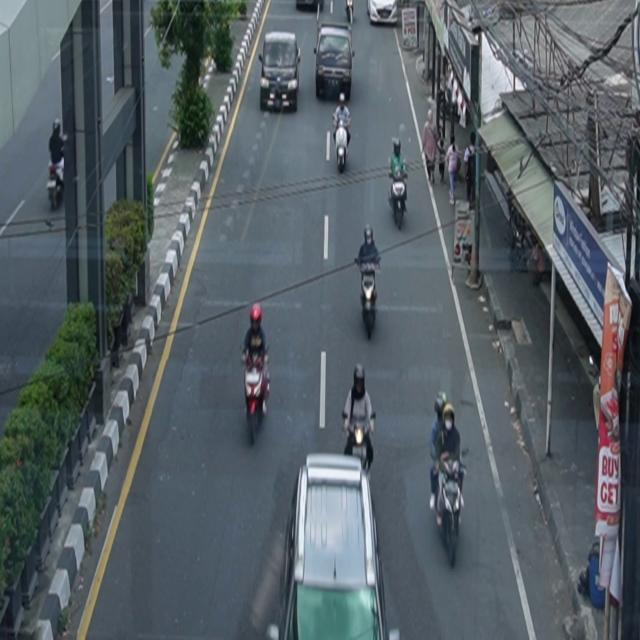car: (271, 453, 400, 640), (259, 32, 302, 113), (314, 24, 356, 101), (367, 1, 398, 26)
